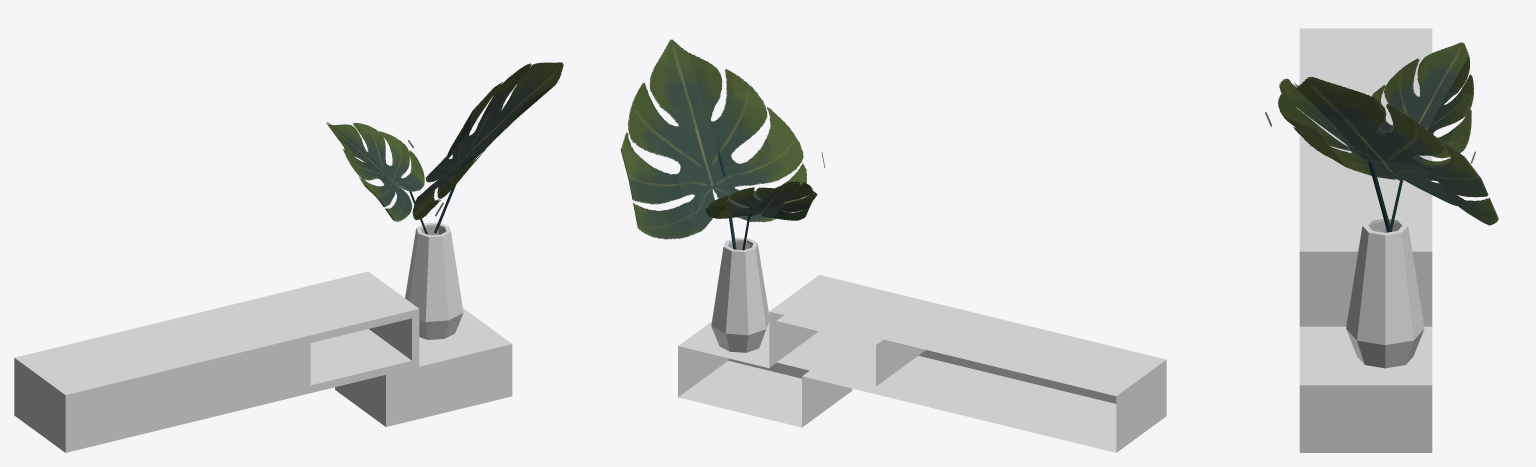
Rendered from Tile_wall_shelf.fbx.
The picture shows the model from 3 angles, left to right: view 1: azimuth 30°, elevation 25°; view 2: azimuth 150°, elevation 25°; view 3: azimuth 270°, elevation 25°; orthographic projection. The views are drawn at different scales.
Parts seen in each view (by area): view 1: Cube.121; view 2: Cube.121; view 3: Cube.121.
Part boxes in pixels (bbox=[...]): Cube.121: bbox=[14, 62, 563, 452]; Cube.121: bbox=[620, 39, 1166, 452]; Cube.121: bbox=[1265, 28, 1498, 452].
Bounding box in the file's own units: 482 × 282 × 196.
